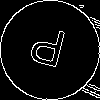P: (25, 25, 68, 77)
